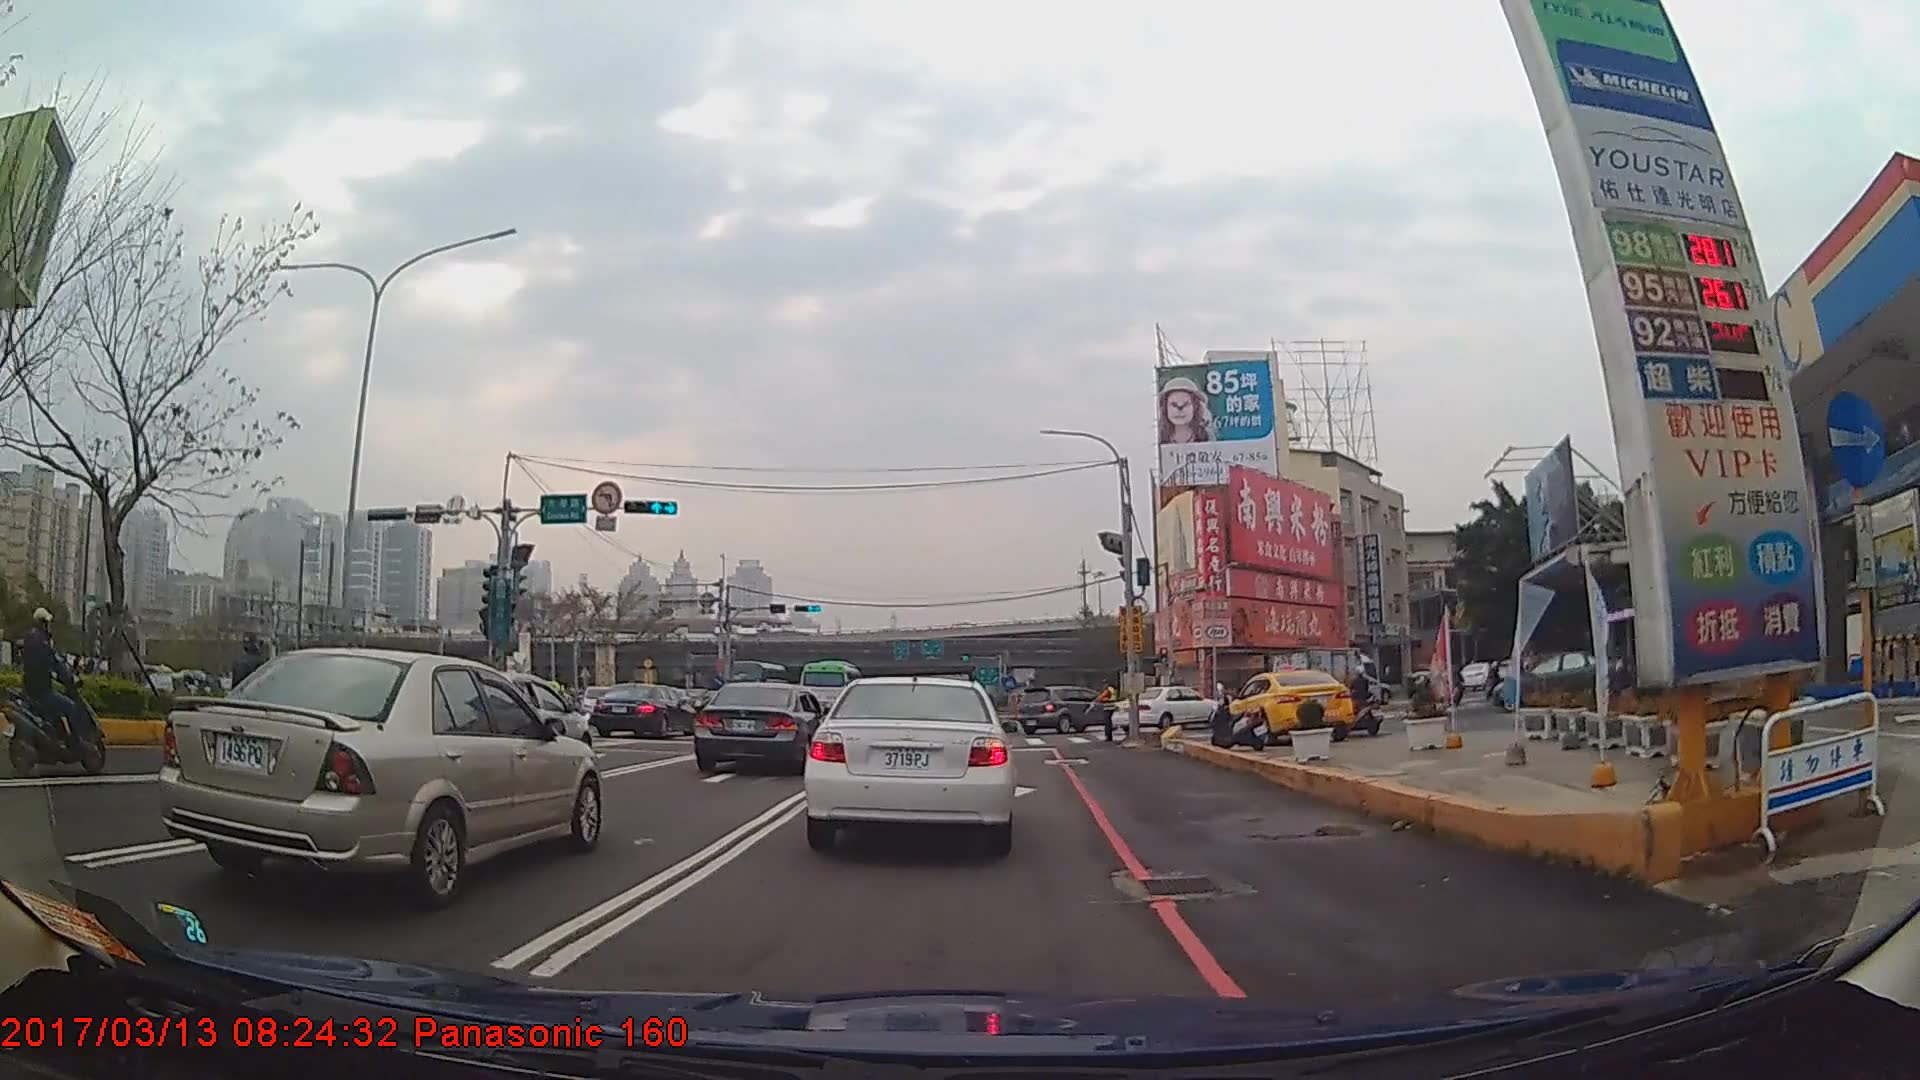pedestrian: (1088, 681, 1115, 744)
rider: (11, 609, 101, 779), (1341, 665, 1383, 737), (1423, 658, 1449, 721)
vehicle: (160, 645, 605, 905), (804, 670, 1014, 852), (689, 679, 828, 774), (1222, 666, 1355, 743), (1262, 644, 1379, 713), (590, 680, 691, 734), (1110, 681, 1221, 729), (1015, 682, 1119, 730), (796, 658, 863, 715)
